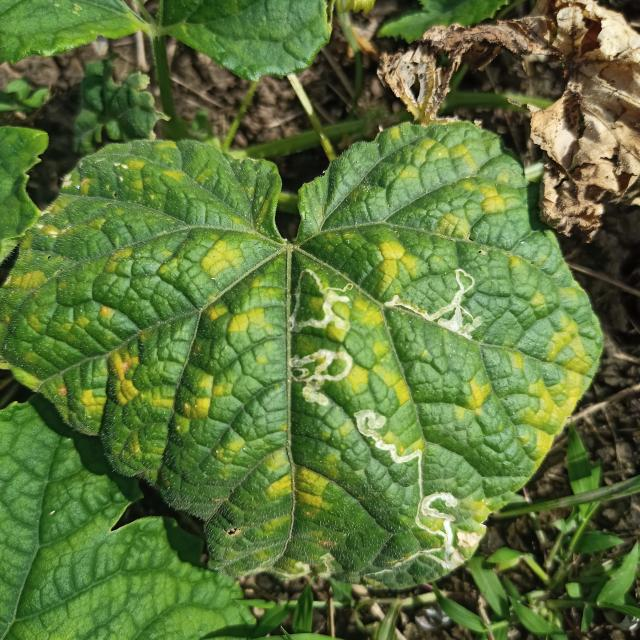disease_cucumber: (32, 127, 584, 584)
